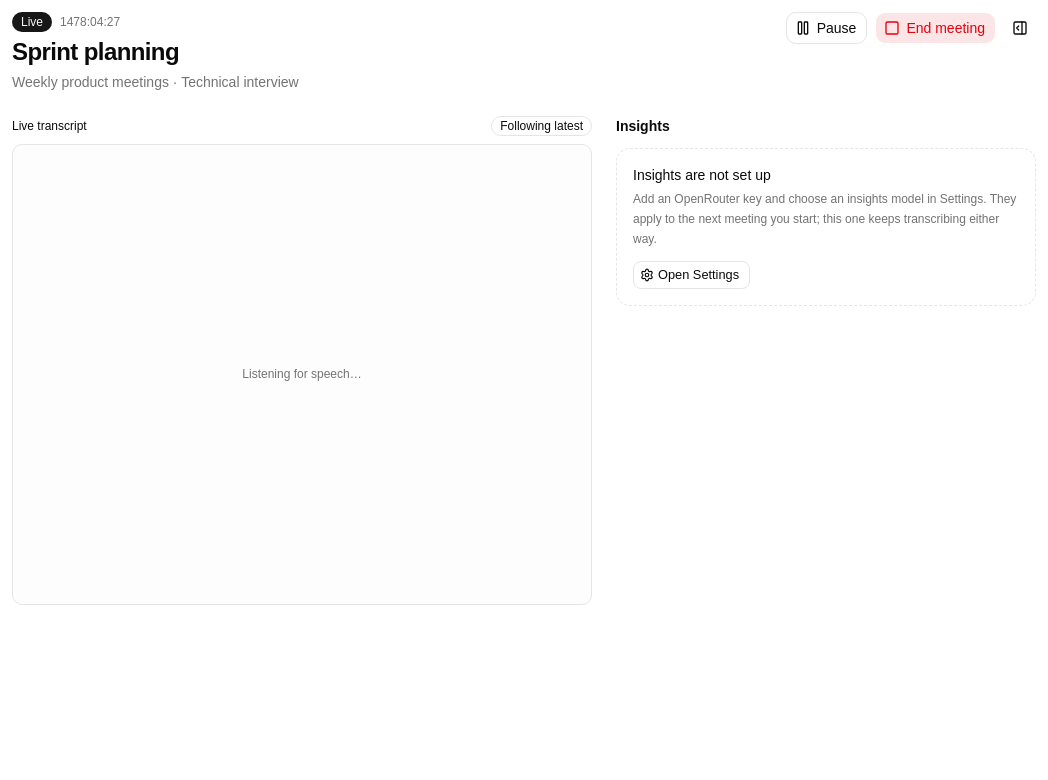
MeetingPage › shows the live meeting with its controls, and pauses it
Expected: the heading "Sprint planning" is shown, top-left (12, 38), bottom-right (179, 65)
Expected: the icon "Live" is shown, top-left (12, 12), bottom-right (52, 32)
Click the button "Pause" at (827, 28), box top-left (786, 12), bottom-right (867, 44)
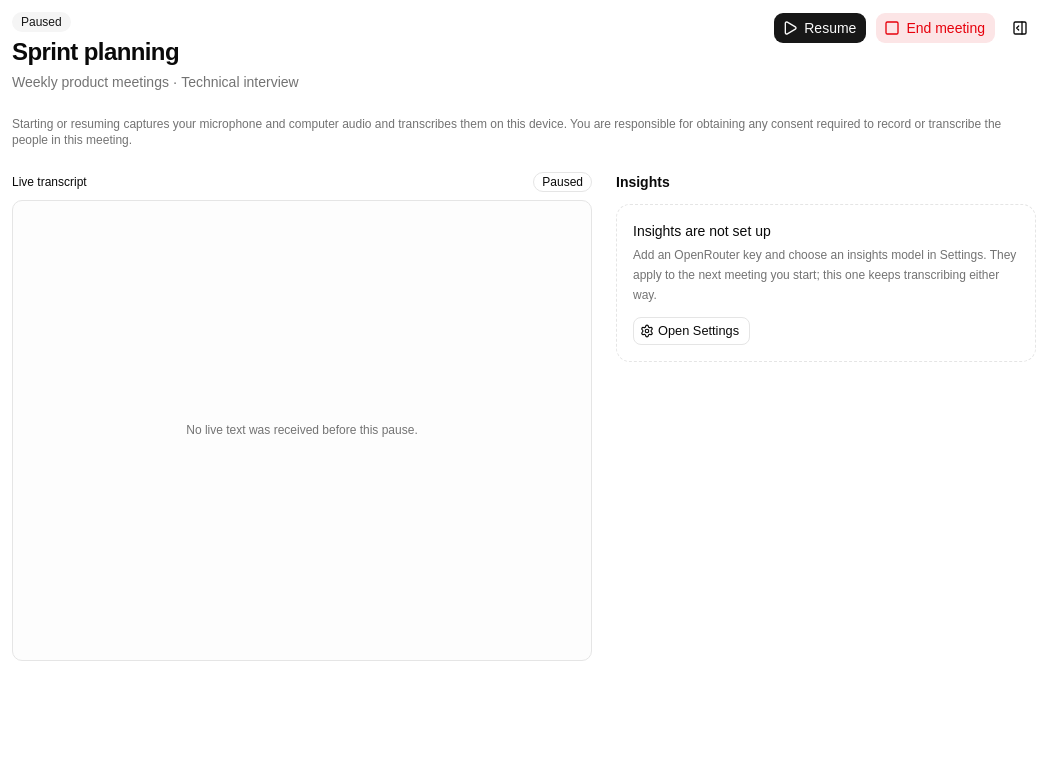
Expected: the button "Resume" is shown, top-left (773, 12), bottom-right (867, 44)
